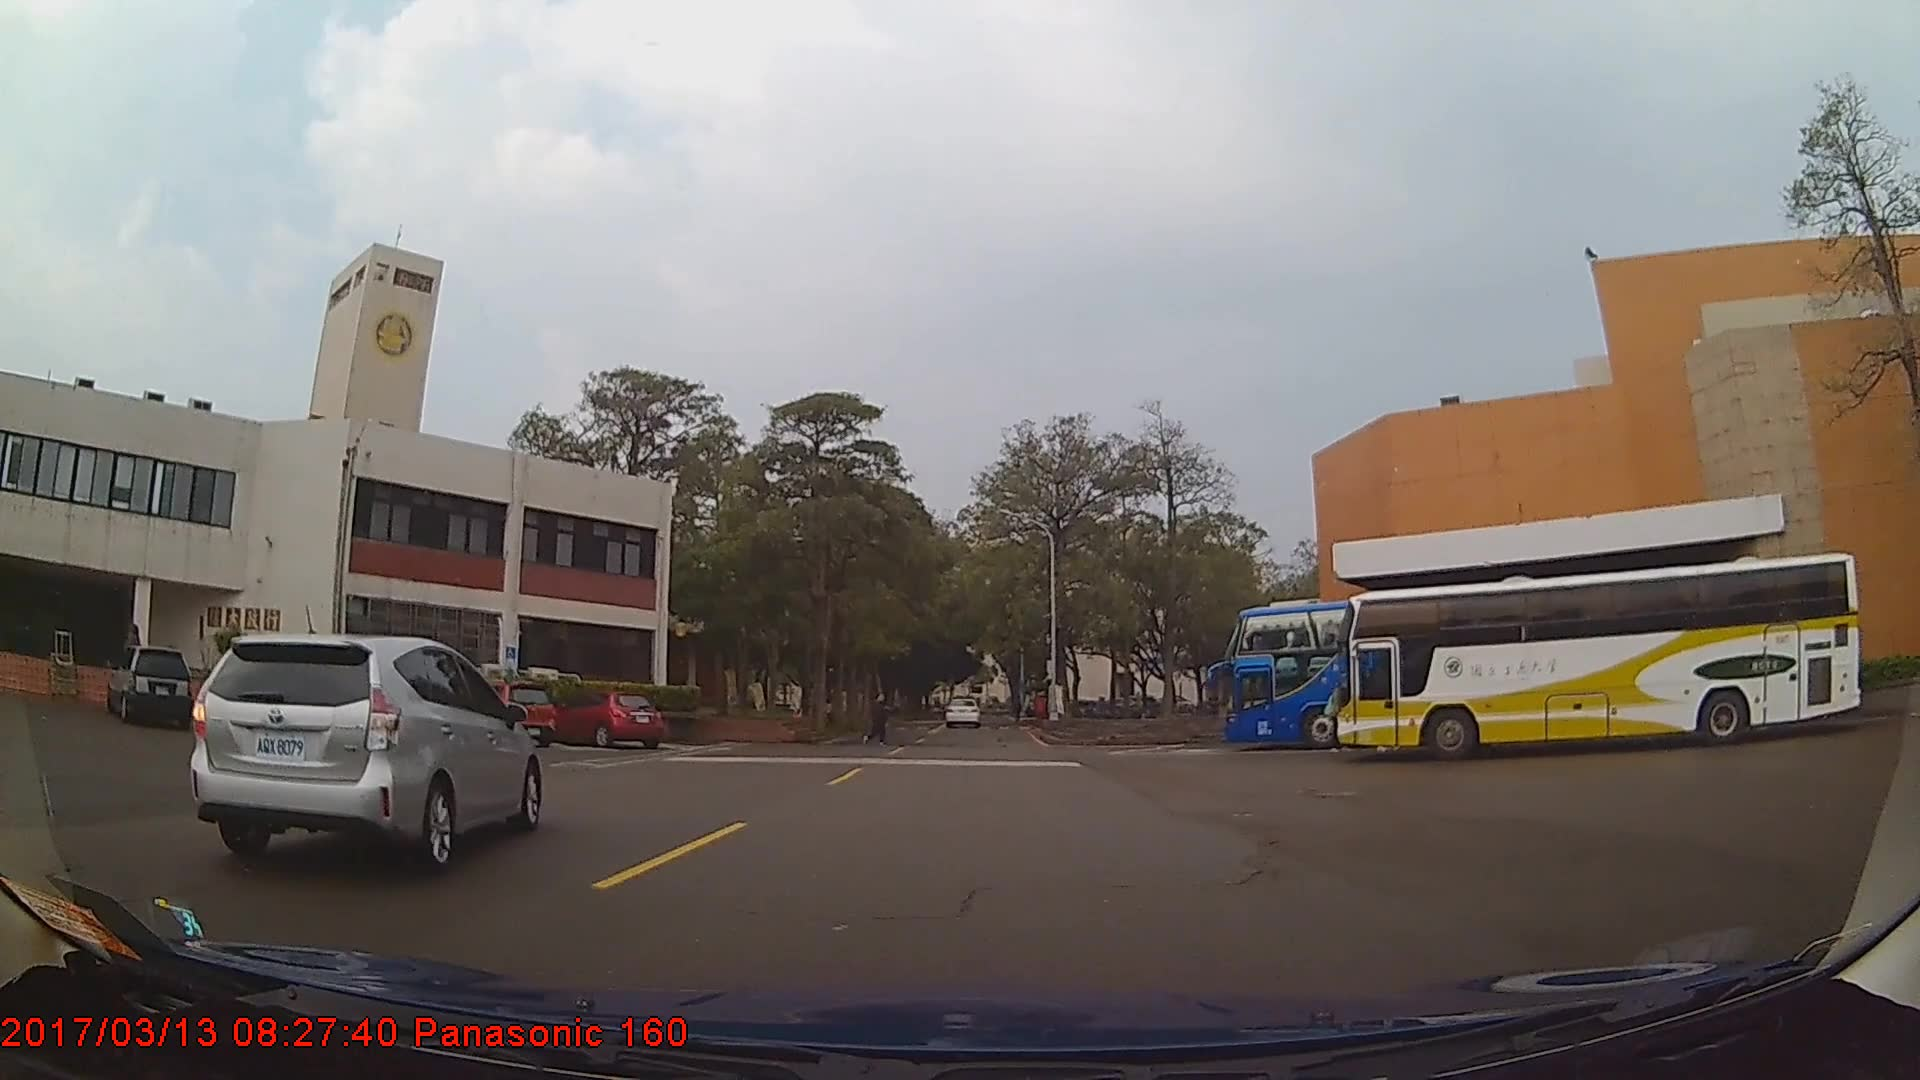pedestrian: (870, 688, 891, 744)
vehicle: (1337, 553, 1864, 762), (192, 630, 543, 867), (1224, 602, 1733, 755), (105, 644, 193, 726), (551, 689, 665, 750), (476, 682, 557, 747), (944, 695, 980, 729)
